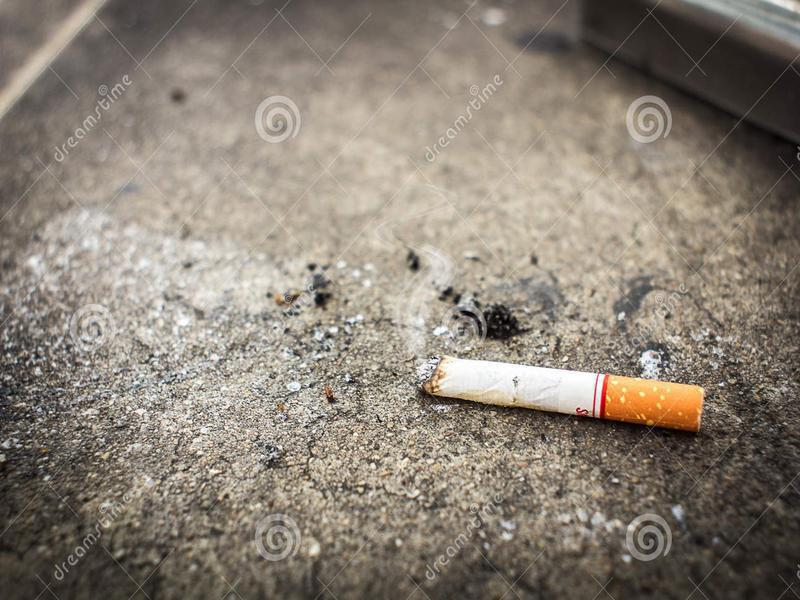burned_cigarette: (401, 348, 712, 439)
